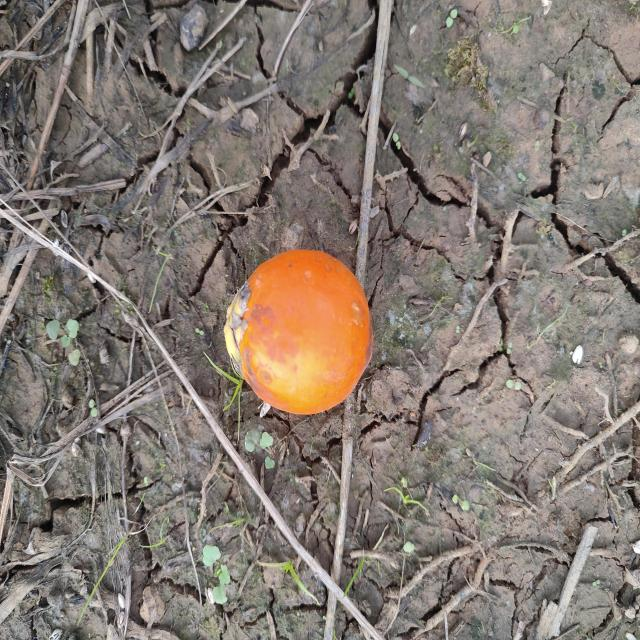good: (229, 251, 374, 419)
